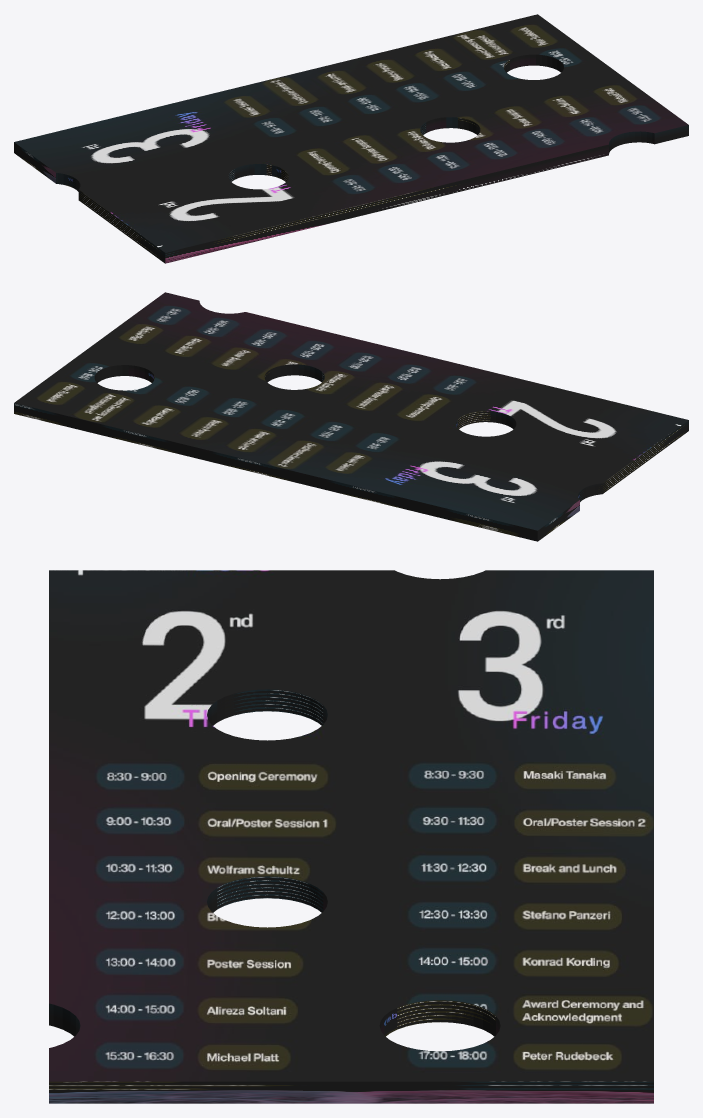
3 views of the same model, one above another, from view 1: azimuth 30°, elevation 25°; view 2: azimuth 150°, elevation 25°; view 3: azimuth 270°, elevation 25° (orthographic). The views are drawn at different scales.
Parts seen in each view (by area): view 1: Cube; view 2: Cube; view 3: Cube.
Part boxes in pixels (<box>): Cube: <box>14,14,688,263</box>; Cube: <box>14,292,688,541</box>; Cube: <box>49,570,653,1103</box>.
Bounding box in the file's own units: 10000 × 200 × 5000.
1 material, 1 textured.
